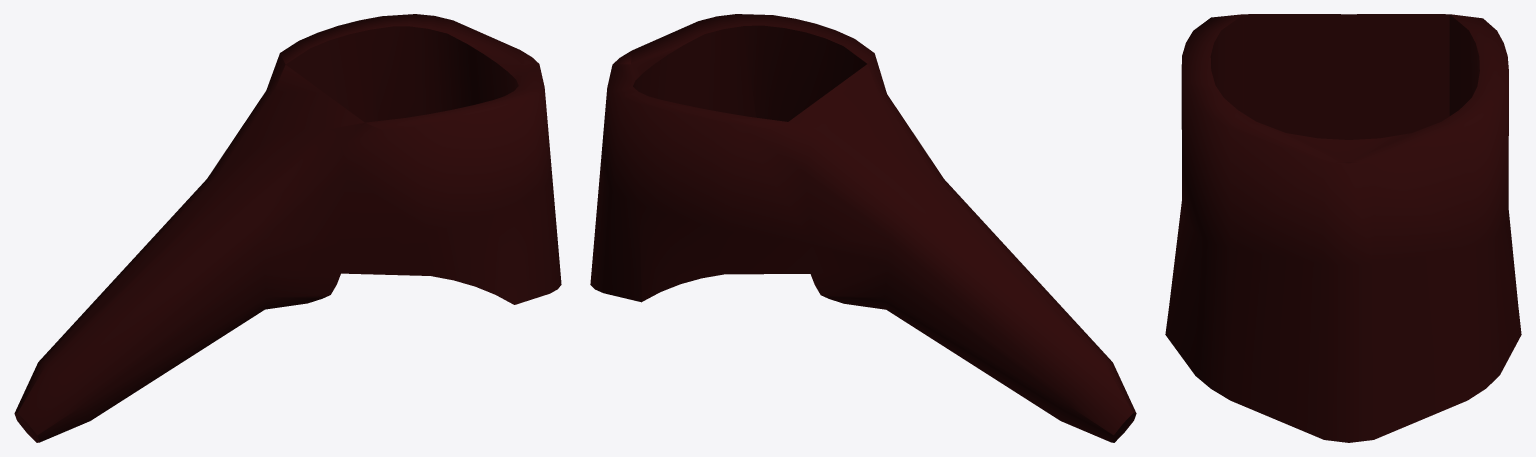
The model's file is VrControler.fbx.
3 renders of one model, left to right at view 1: azimuth 30°, elevation 25°; view 2: azimuth 150°, elevation 25°; view 3: azimuth 270°, elevation 25°, orthographic. The views are drawn at different scales.
Visible parts, largest first — view 1: Teeth; view 2: Teeth; view 3: Teeth.
Boxes of the visible parts, box(x1,y1,x2,y2) form: Teeth: box(14, 14, 561, 442); Teeth: box(590, 14, 1136, 442); Teeth: box(1165, 14, 1521, 442).
Size of the model in its own units: 6.99 by 3.57 by 3.13.
